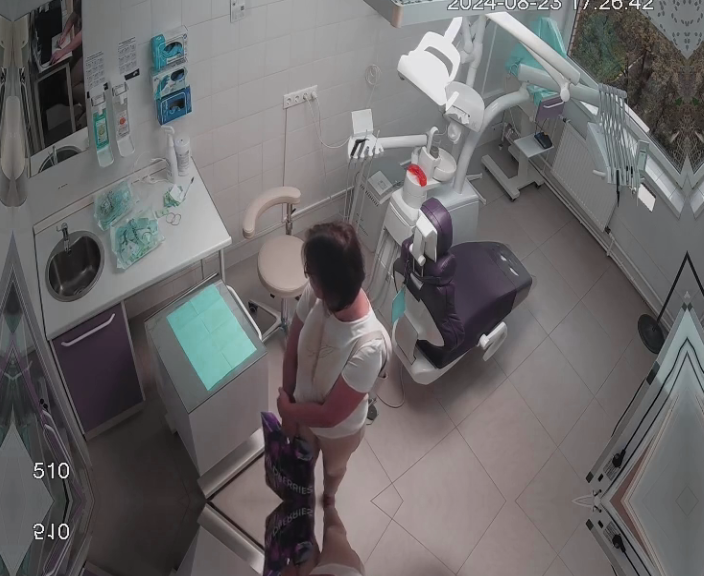Empty: (370, 201, 535, 386)
